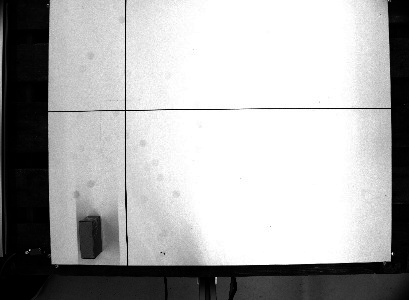b1: (77, 214, 105, 260)
